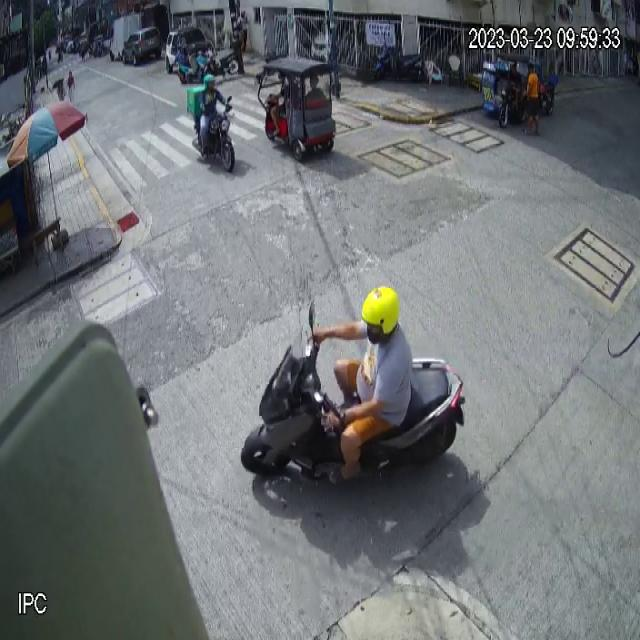Motorcycle: (240, 302, 465, 484), (186, 84, 235, 174)
Tricycle: (482, 51, 527, 127)
